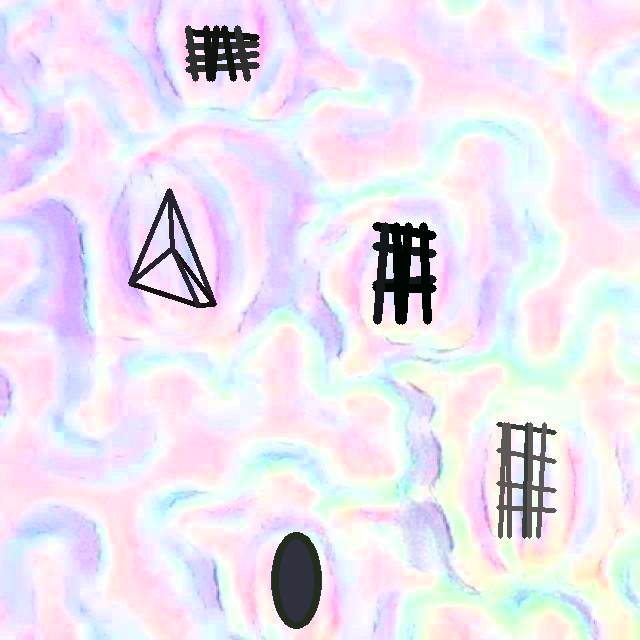close: (128, 188, 216, 307), (270, 532, 321, 628)
open: (497, 423, 556, 538), (372, 222, 435, 324), (185, 26, 258, 81)
